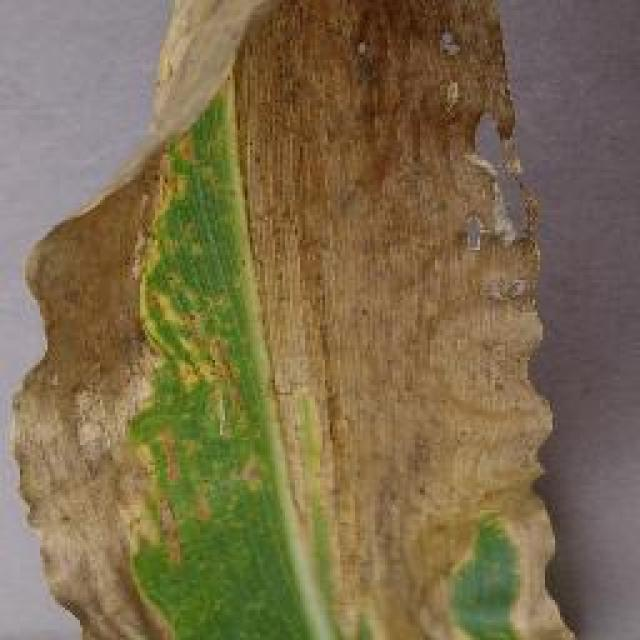Corn___Northern_Leaf_Blight: (0, 2, 600, 640)
